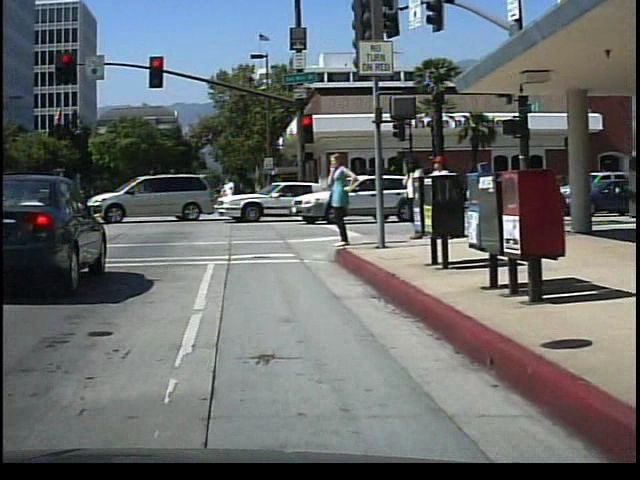person: (321, 147, 355, 251), (422, 146, 455, 243), (399, 149, 427, 242)
